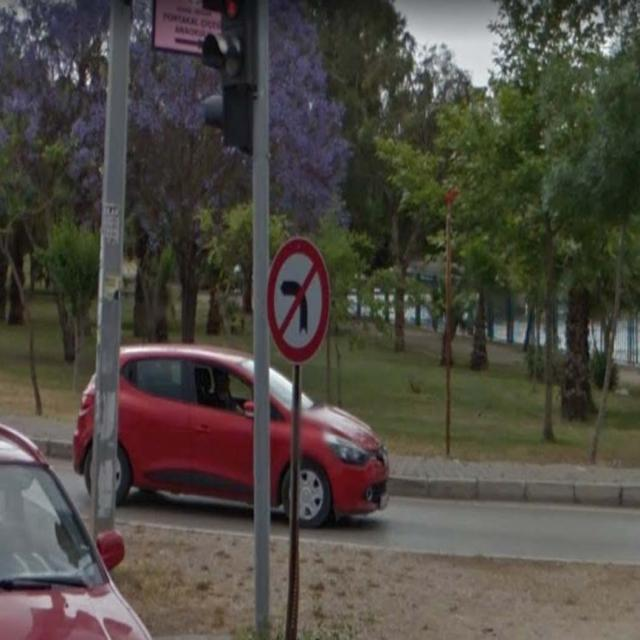soladonulmez: (267, 236, 329, 362)
